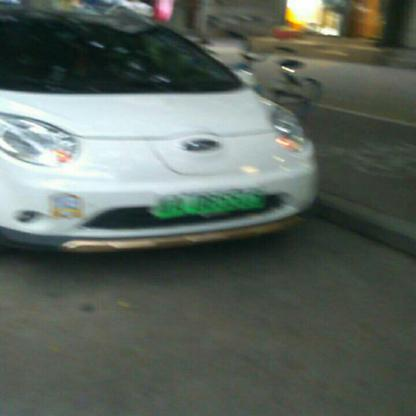lp: (156, 186, 266, 219)
